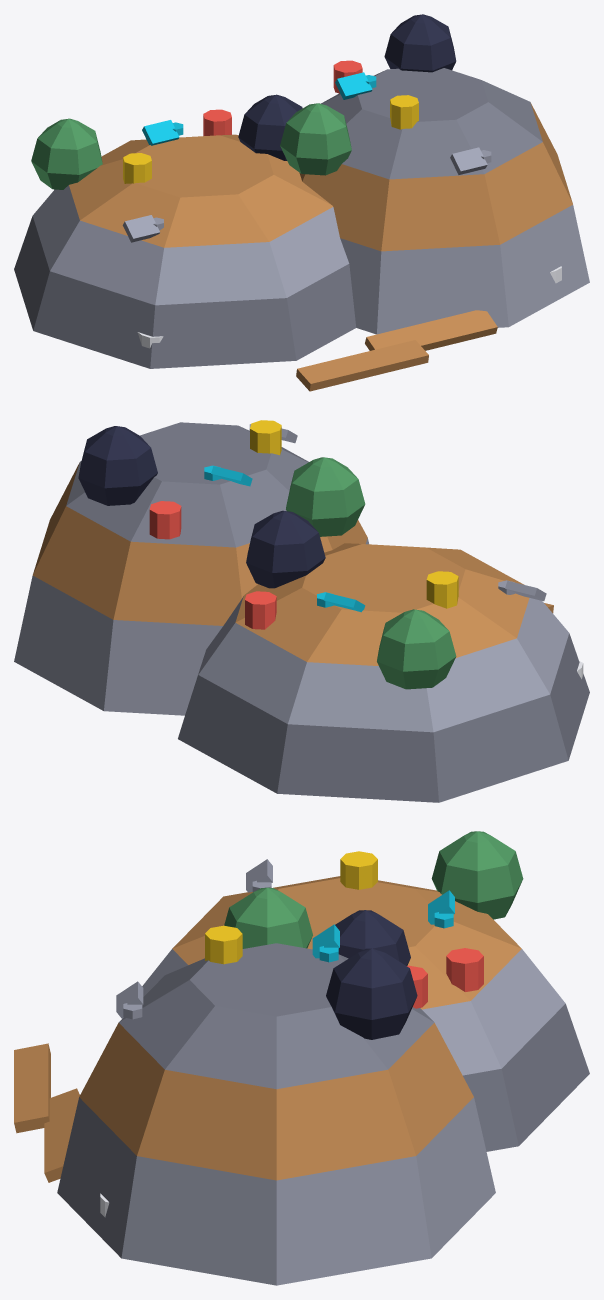
The model's file is mound-1x1-t2.glb.
The picture shows the model from 3 angles, top to bottom: view 1: azimuth 30°, elevation 25°; view 2: azimuth 150°, elevation 25°; view 3: azimuth 270°, elevation 25°; orthographic projection. The views are drawn at different scales.
Visible parts, largest first — view 1: mound-1x1-t2; view 2: mound-1x1-t2; view 3: mound-1x1-t2.
Part boxes in pixels (box(x1,y1,x2,y2)): mound-1x1-t2: box(14, 14, 589, 391); mound-1x1-t2: box(14, 420, 589, 802); mound-1x1-t2: box(14, 831, 589, 1285).
Size of the model in its own units: 0.95 by 0.3767 by 0.7351.
1 material, 1 textured.
